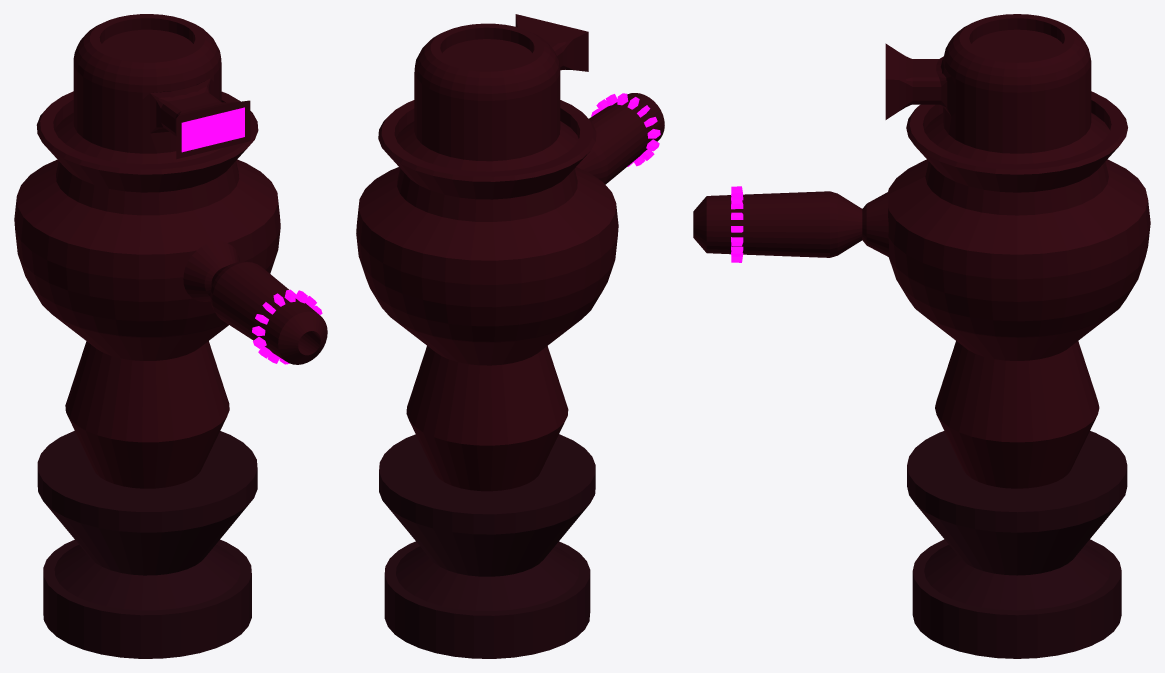
The model's file is SMGTurret.fbx.
The picture shows the model from 3 angles, left to right: view 1: azimuth 30°, elevation 25°; view 2: azimuth 150°, elevation 25°; view 3: azimuth 270°, elevation 25°; orthographic projection.
Visible parts, largest first — view 1: Turret; view 2: Turret; view 3: Turret.
Part boxes in pixels (<box>): Turret: <box>14,14,327,658</box>; Turret: <box>356,14,664,658</box>; Turret: <box>693,14,1150,658</box>.
Size of the model in its own units: 425 by 248 by 591.
